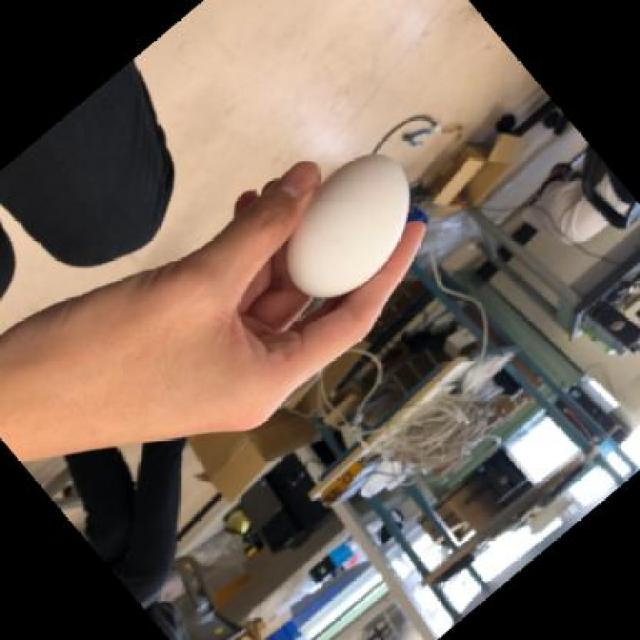egg: (285, 145, 414, 296)
